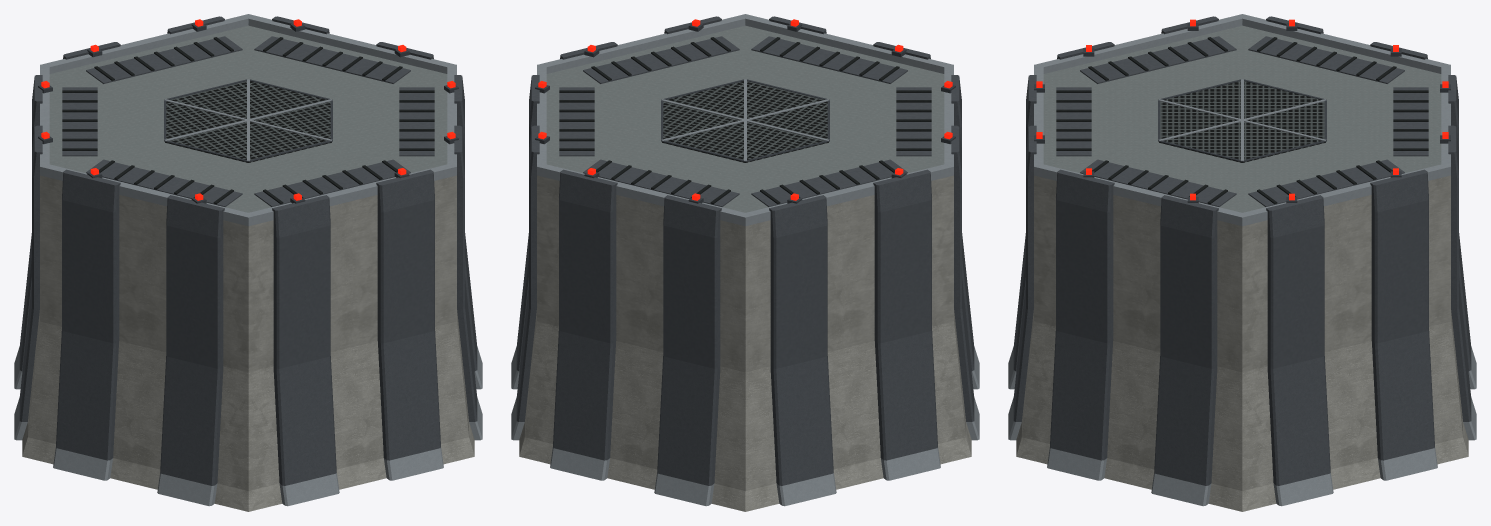
Rendered from pier.glb.
3 renders of one model, left to right at view 1: azimuth 30°, elevation 25°; view 2: azimuth 150°, elevation 25°; view 3: azimuth 270°, elevation 25°, orthographic.
Visible parts, largest first — view 1: pier-lod0-roof0, pier-lod0-base0, pier-lod0-floor0; view 2: pier-lod0-roof0, pier-lod0-base0, pier-lod0-floor0; view 3: pier-lod0-roof0, pier-lod0-base0, pier-lod0-floor0.
Boxes of the visible parts, x1,y1,x2,y2 form: pier-lod0-roof0: [32, 14, 464, 241]; pier-lod0-base0: [14, 233, 482, 511]; pier-lod0-floor0: [32, 127, 464, 372]; pier-lod0-roof0: [529, 14, 961, 241]; pier-lod0-base0: [511, 233, 979, 511]; pier-lod0-floor0: [529, 127, 961, 372]; pier-lod0-roof0: [1026, 14, 1458, 241]; pier-lod0-base0: [1008, 233, 1476, 511]; pier-lod0-floor0: [1026, 127, 1458, 372].
Size of what is drawn, in the model's own units: 65.13 by 40.38 by 58.4.
Materials: 8 (8 with a texture image).
